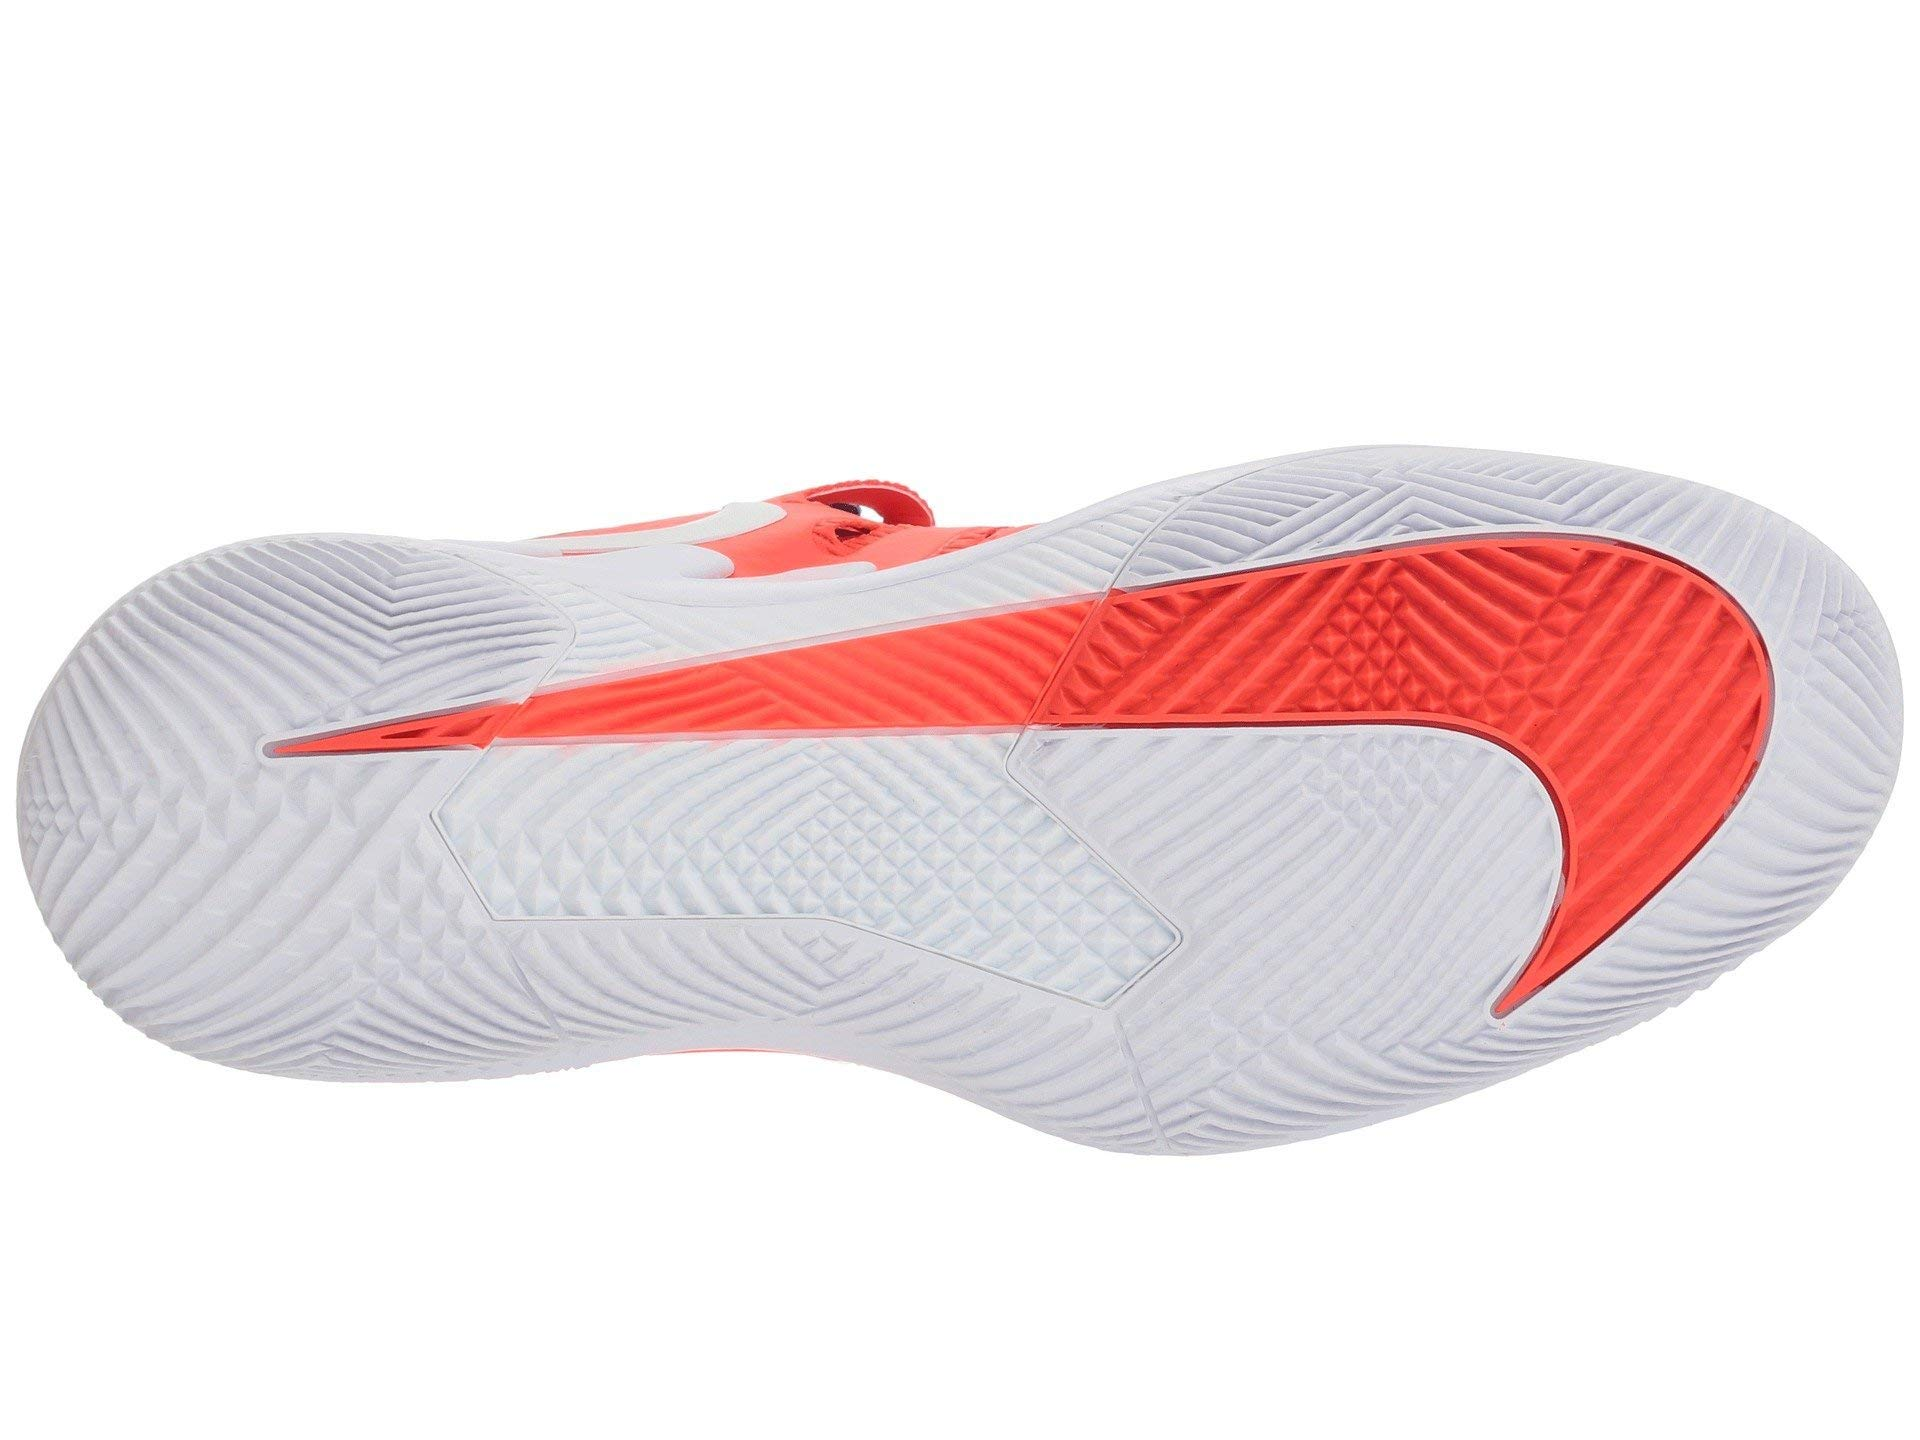chevron: (197, 551, 513, 703)
line: (94, 864, 308, 1057), (1575, 619, 1717, 864), (1296, 877, 1485, 1023), (804, 643, 1037, 706), (603, 690, 735, 731)
quad: (488, 830, 1138, 947), (1299, 728, 1465, 829), (1327, 599, 1423, 722)
triangle: (379, 717, 451, 759)
